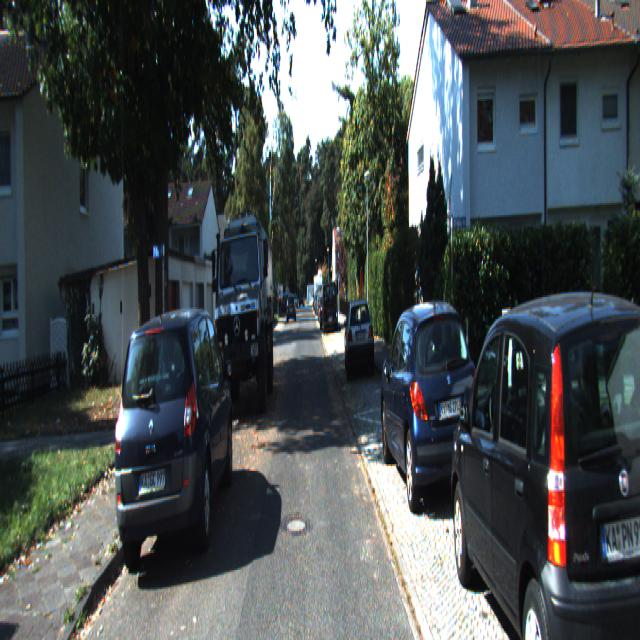Car: (446, 296, 640, 638), (114, 312, 236, 598), (379, 301, 484, 532), (215, 215, 274, 411), (344, 294, 376, 378), (322, 282, 338, 336), (286, 294, 297, 322)
